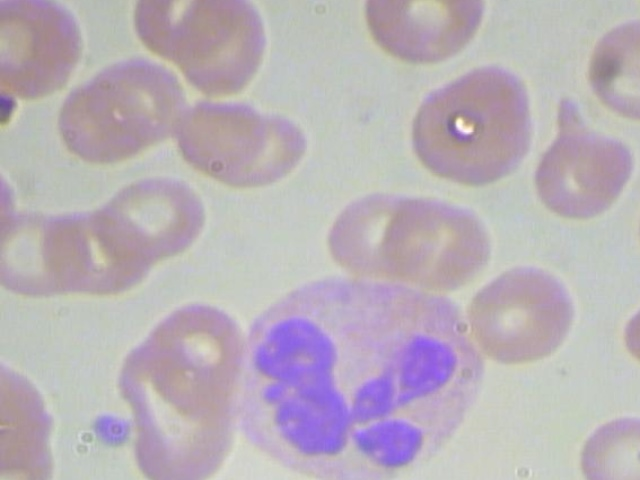Platelets: (79, 407, 137, 453)
RBC: (400, 57, 546, 193), (456, 265, 598, 369), (526, 94, 639, 221), (88, 169, 221, 270), (80, 50, 197, 155), (311, 190, 433, 284), (176, 0, 278, 99), (351, 0, 497, 66), (583, 14, 640, 123), (578, 412, 640, 480)
WBC: (216, 265, 502, 480)
